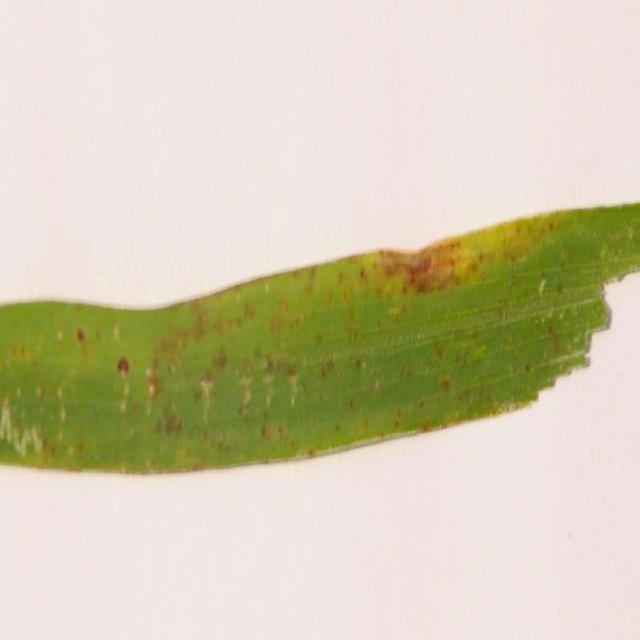Leafsmut: (492, 222, 550, 270), (401, 250, 449, 291), (266, 300, 300, 336), (160, 410, 183, 435), (186, 318, 208, 344), (199, 378, 213, 416), (0, 401, 14, 438), (261, 422, 285, 443), (76, 329, 91, 362), (8, 343, 30, 362), (12, 431, 28, 457), (318, 358, 336, 380), (264, 376, 276, 409), (344, 306, 358, 334), (600, 301, 613, 331), (240, 383, 253, 411), (548, 327, 562, 352), (302, 272, 316, 296), (262, 354, 276, 373), (32, 432, 44, 454), (215, 351, 228, 370), (353, 418, 368, 434), (116, 357, 130, 374), (240, 358, 253, 376), (244, 302, 255, 319), (58, 404, 67, 424), (537, 278, 547, 295), (434, 342, 444, 359), (440, 375, 452, 389), (75, 441, 87, 455), (508, 252, 520, 266), (616, 271, 630, 283), (387, 305, 402, 316), (112, 324, 122, 340), (286, 364, 297, 378), (76, 328, 86, 343), (146, 459, 156, 474), (147, 382, 156, 398), (600, 244, 609, 260), (373, 378, 383, 392), (56, 385, 64, 402), (565, 342, 576, 354), (192, 389, 202, 402), (554, 283, 564, 295), (66, 445, 76, 457), (260, 425, 268, 439), (119, 399, 127, 413), (355, 358, 364, 370), (524, 363, 533, 375), (358, 268, 366, 281), (56, 329, 64, 342), (35, 386, 43, 399), (314, 334, 324, 344), (120, 464, 130, 474), (145, 366, 153, 378), (627, 227, 634, 240), (290, 393, 296, 408), (393, 418, 401, 429), (348, 399, 356, 410), (94, 328, 101, 340), (15, 386, 22, 398), (421, 424, 430, 433), (307, 448, 315, 458), (334, 424, 342, 433), (235, 293, 242, 303), (264, 282, 270, 292), (559, 312, 565, 321)
